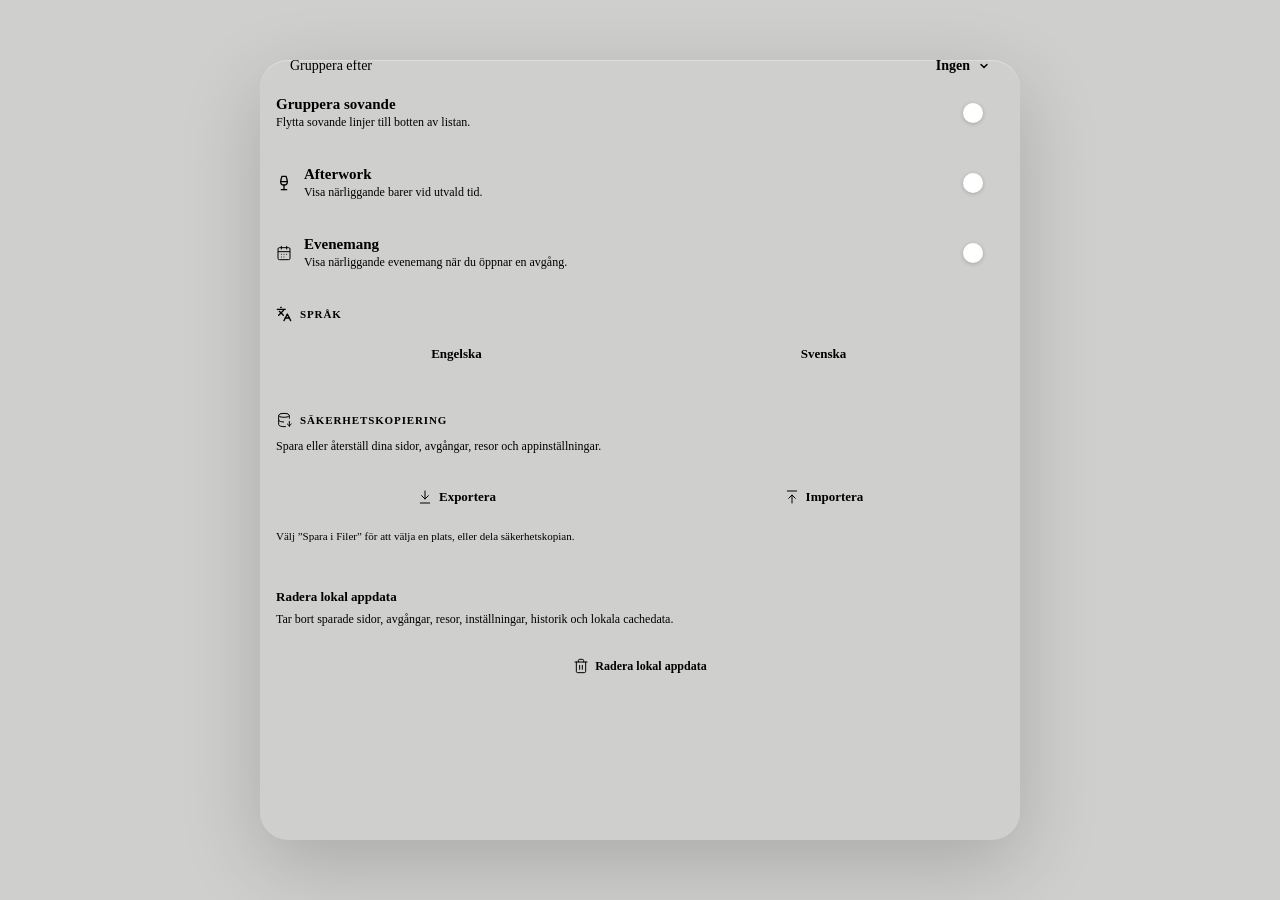
Scenario: SettingsPanel location controls › uses the export helper and shows its native-share outcome
(page scrolled)
Expected: the text "Välj ”Spara i Filer” för att välja en plats, eller dela säkerhetskopian." is shown, [276, 530, 574, 542]
Click the button with aria-label "Exportera säkerhetskopia".
click(456, 497)  # box [276, 475, 637, 519]
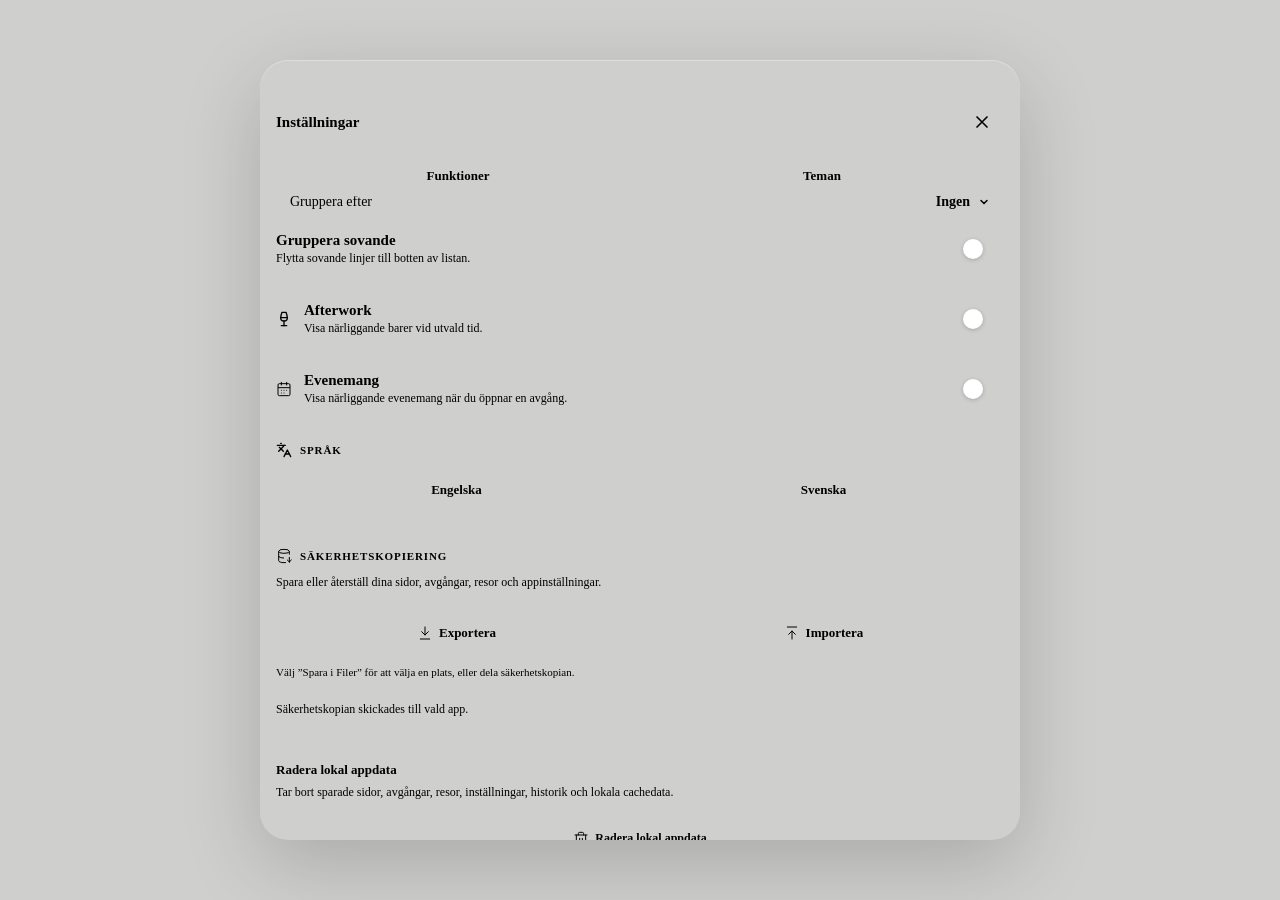
Expected: the message reads "Säkerhetskopian skickades till vald app.", [276, 702, 468, 716]
